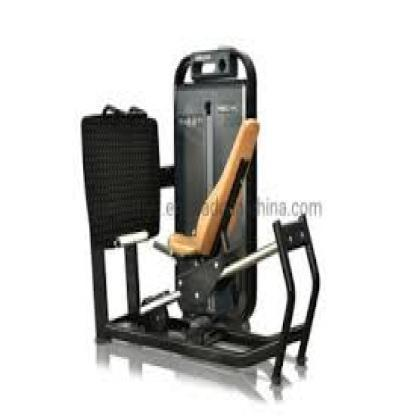leg press: (60, 28, 356, 396)
